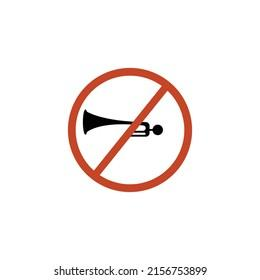Horn Prohibited: (50, 51, 204, 211)
